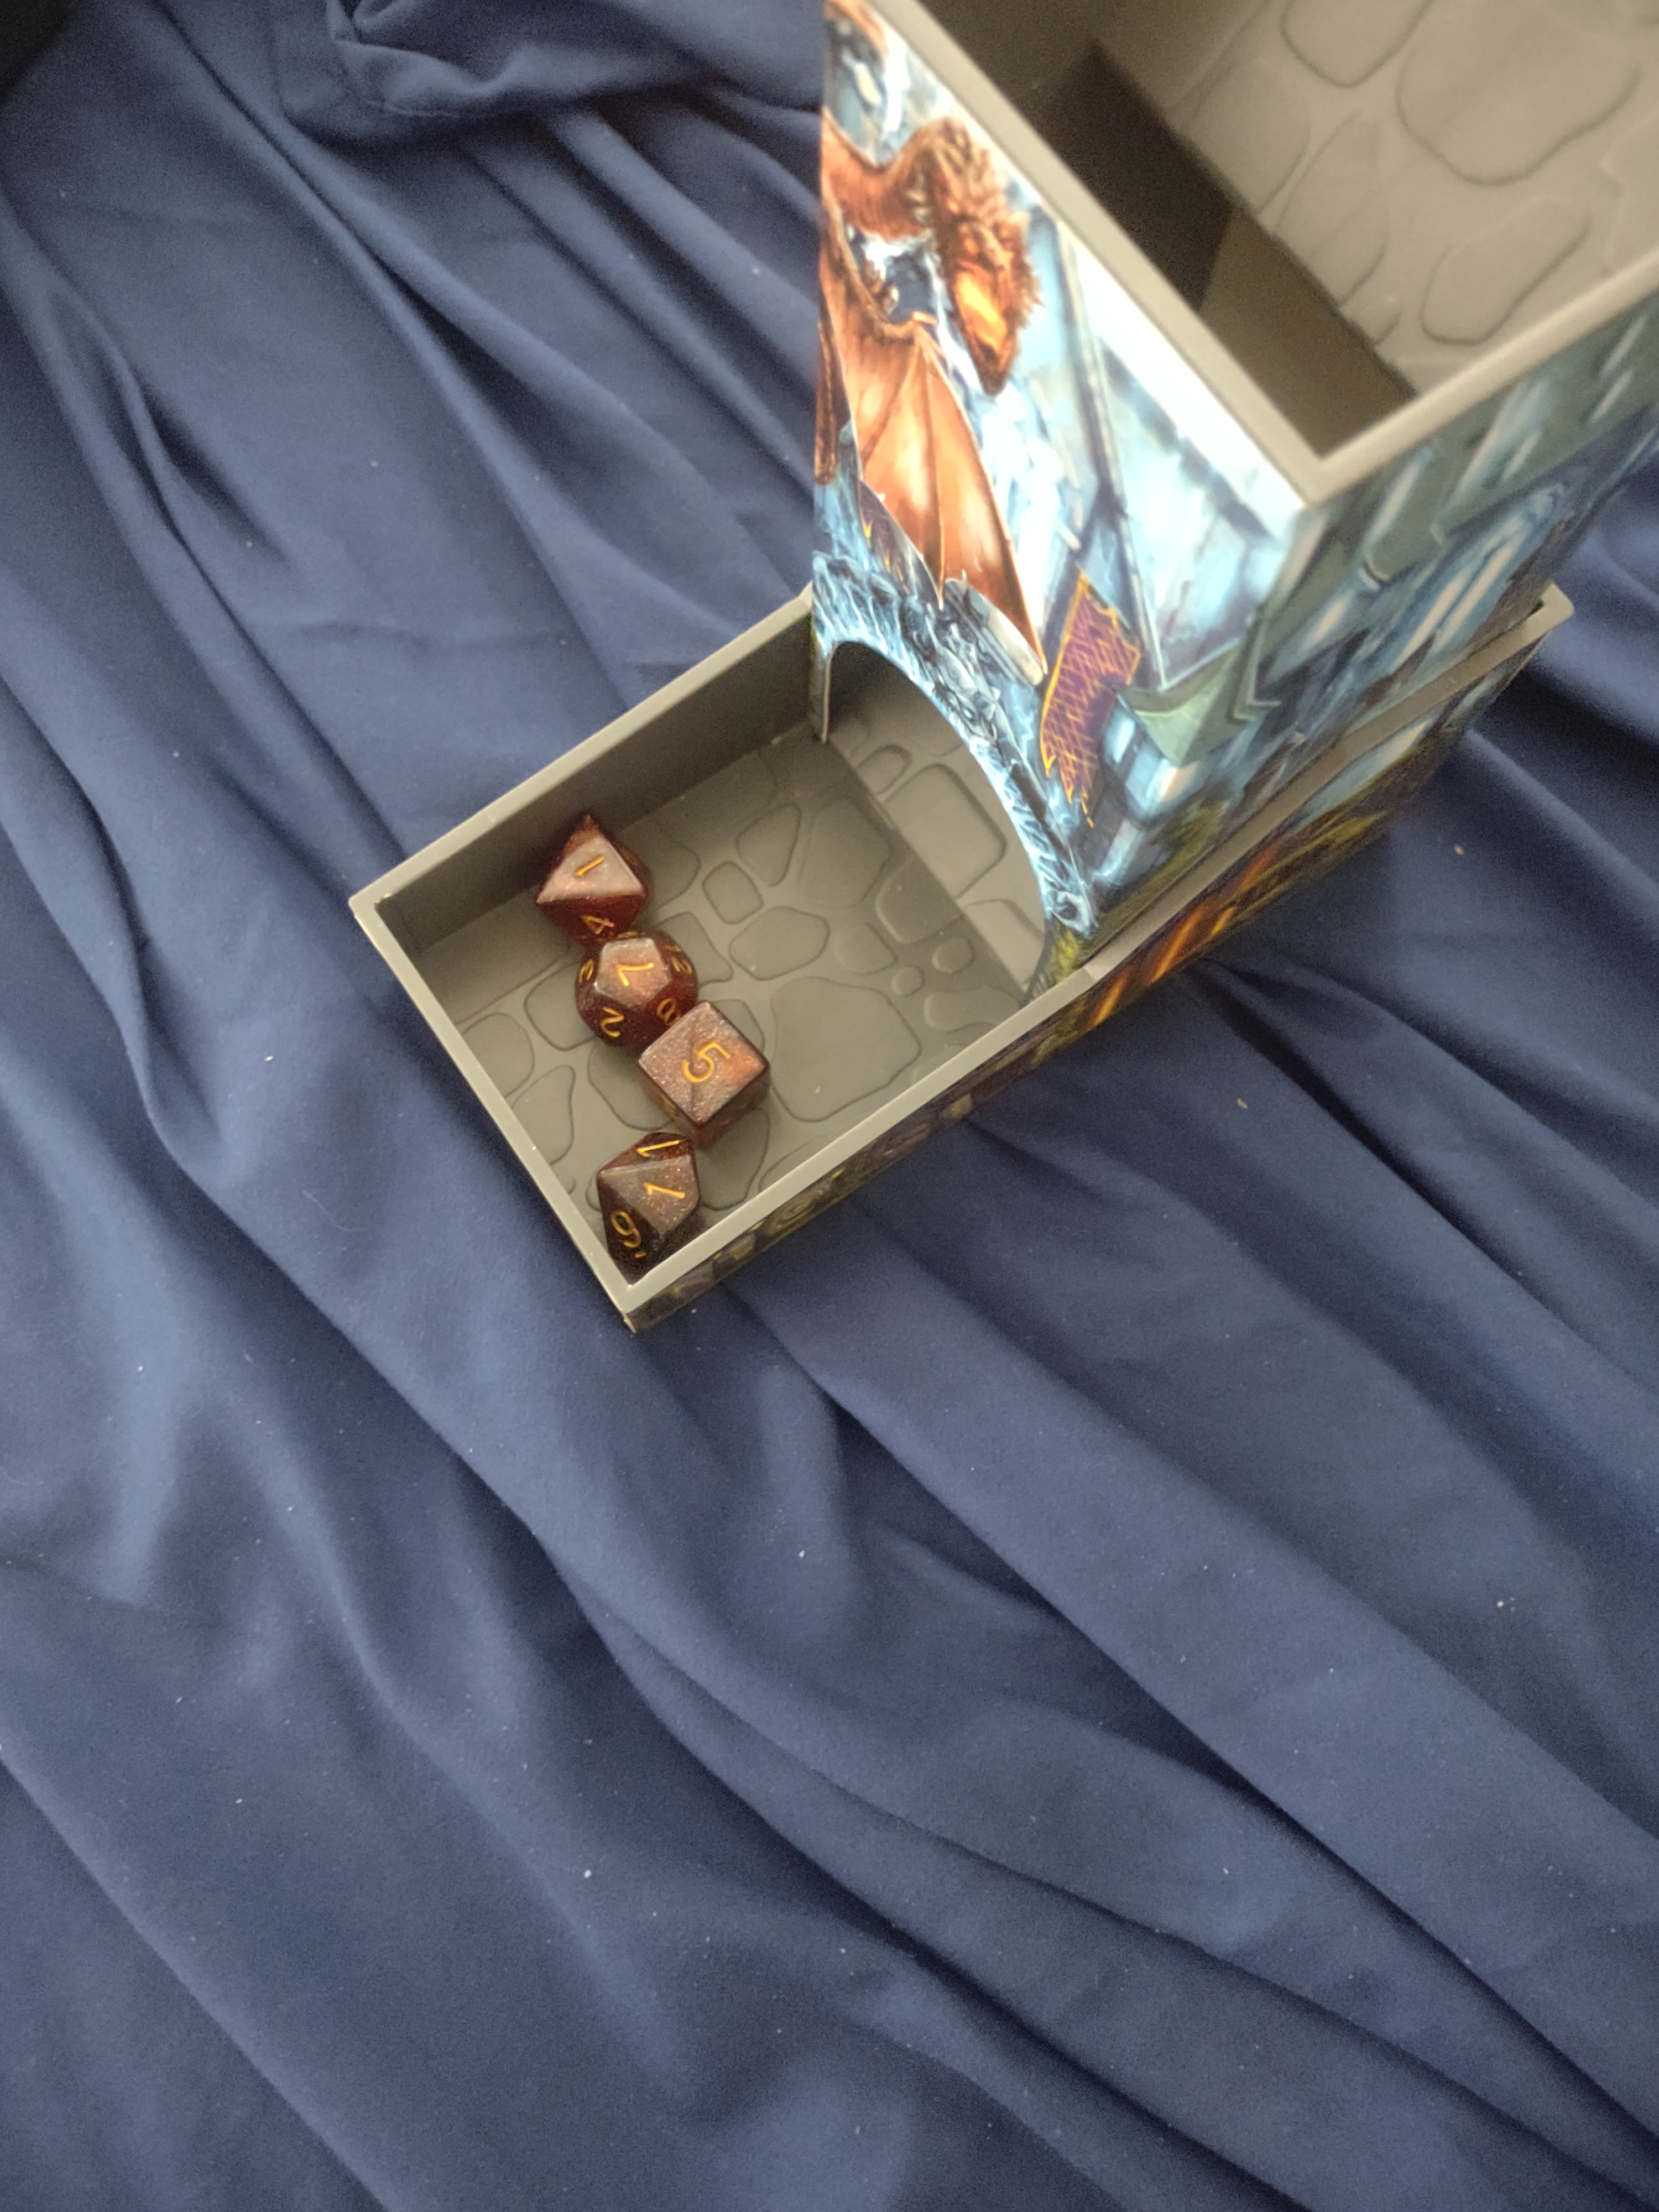five: (636, 993, 795, 1153)
one: (509, 792, 690, 949), (579, 1127, 746, 1278)
seven: (556, 923, 714, 1055)
